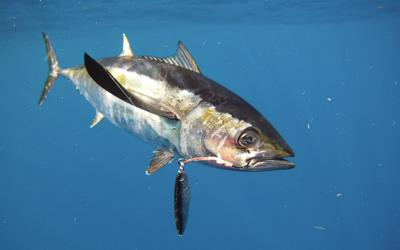Scombridae -Tunas-: (35, 28, 300, 179)
